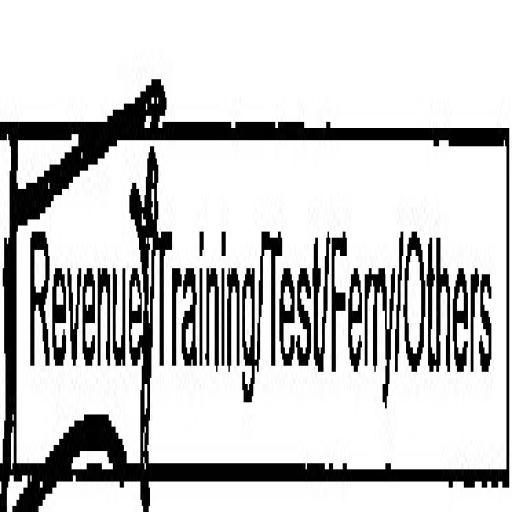check: (1, 26, 152, 512)
